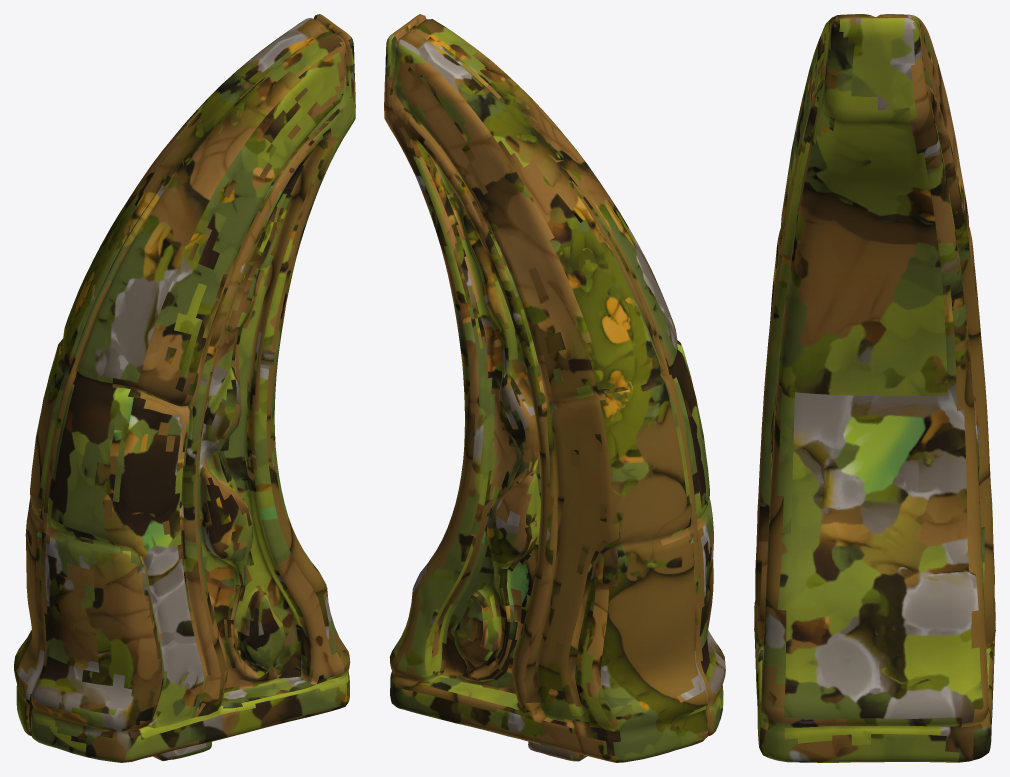
The model's file is nat-Base-Leaf1-7900.fbx.
The picture shows the model from 3 angles, left to right: view 1: azimuth 30°, elevation 25°; view 2: azimuth 150°, elevation 25°; view 3: azimuth 270°, elevation 25°; orthographic projection. The views are drawn at different scales.
Parts seen in each view (by area): view 1: tripo_node_b5cd5fa9; view 2: tripo_node_b5cd5fa9; view 3: tripo_node_b5cd5fa9.
Boxes of the visible parts, x1,y1,x2,y2 form: tripo_node_b5cd5fa9: (14,14,355,762); tripo_node_b5cd5fa9: (384,14,725,762); tripo_node_b5cd5fa9: (754,14,995,762).
Size of the model in its own units: 0.4668 by 0.9787 by 0.2645.
